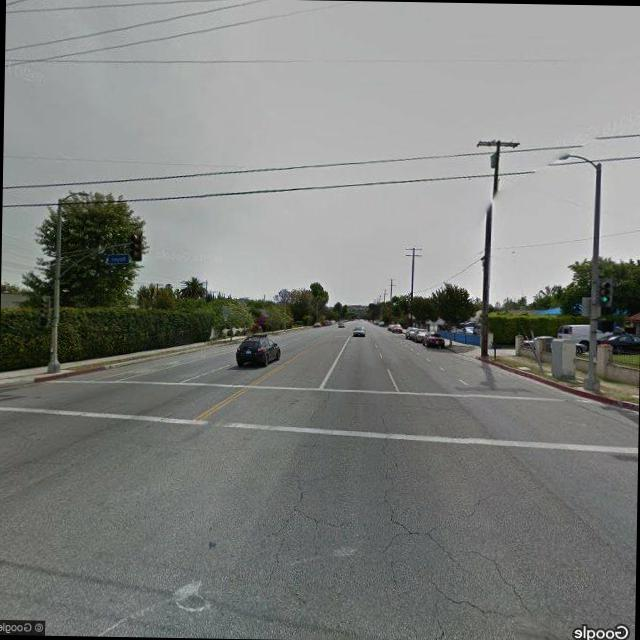crack: (261, 461, 540, 640)
